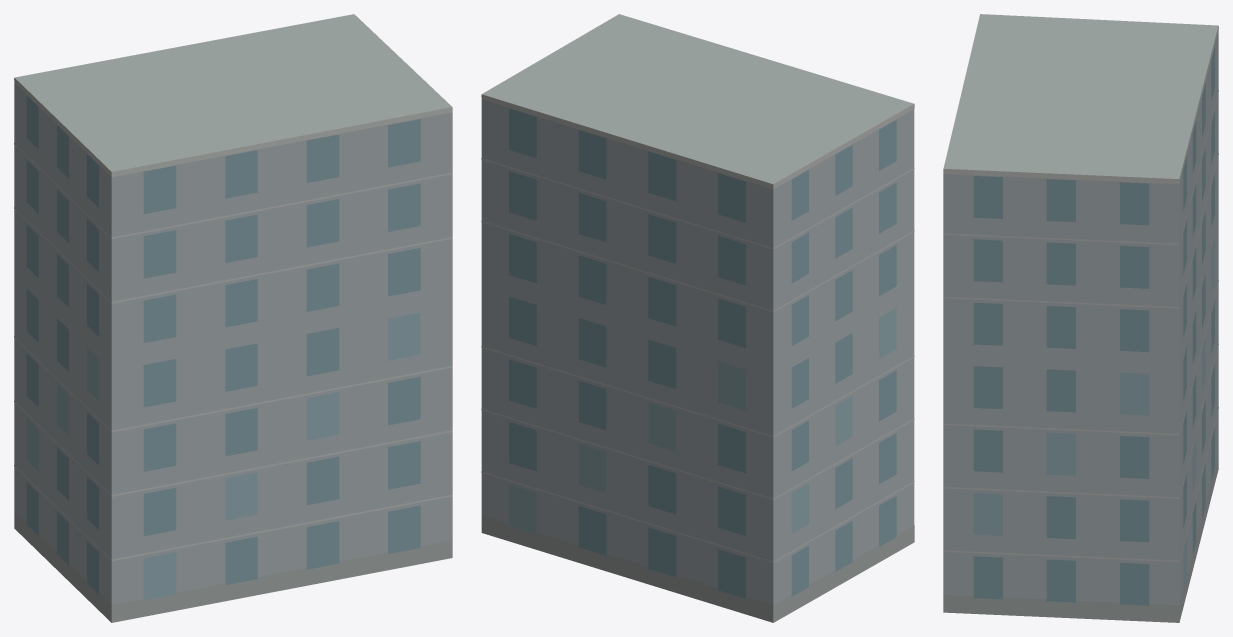
File: survey-upis-32811948.glb
3 views of the same model, side by side, from view 1: azimuth 30°, elevation 25°; view 2: azimuth 150°, elevation 25°; view 3: azimuth 270°, elevation 25° (orthographic). The views are drawn at different scales.
Parts seen in each view (by area): view 1: survey-upis-32811948.tmp; view 2: survey-upis-32811948.tmp; view 3: survey-upis-32811948.tmp.
Boxes of the visible parts, bbox=[...] form: survey-upis-32811948.tmp: bbox=[14, 14, 452, 622]; survey-upis-32811948.tmp: bbox=[481, 14, 914, 622]; survey-upis-32811948.tmp: bbox=[943, 14, 1218, 622].
Size of the model in its own units: 16.7 by 20.9 by 11.77.
